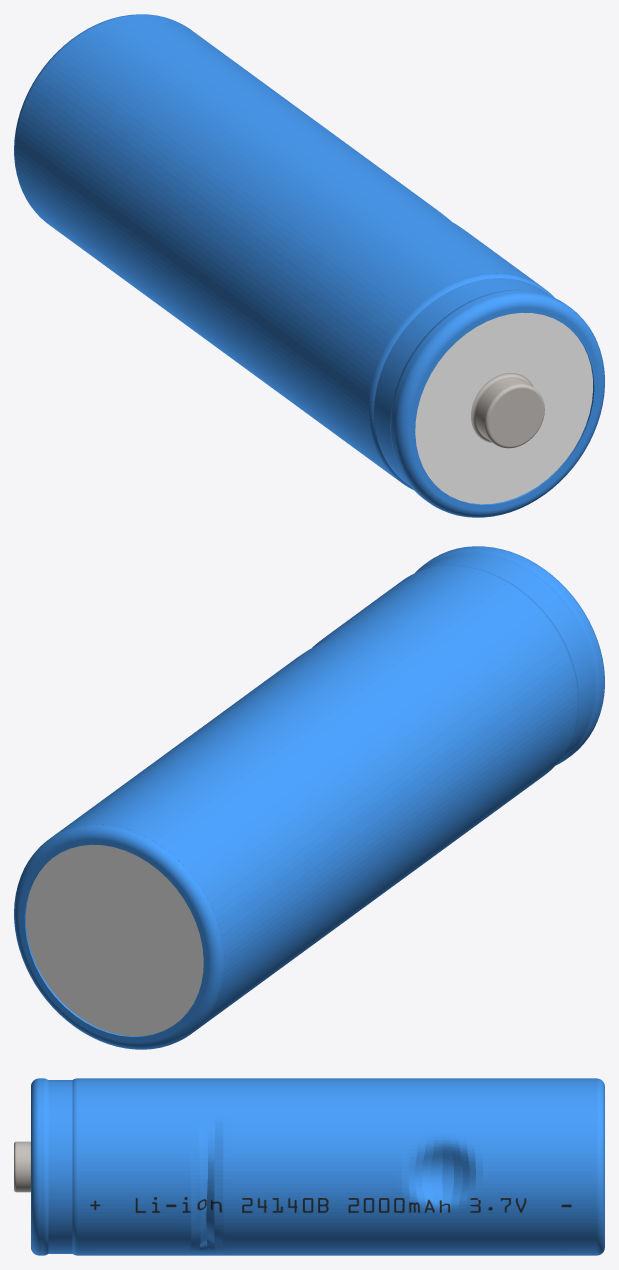
File: defect_8.glb
3 renders of one model, top to bottom at view 1: azimuth 30°, elevation 25°; view 2: azimuth 150°, elevation 25°; view 3: azimuth 270°, elevation 25°, orthographic. The views are drawn at different scales.
Parts seen in each view (by area): view 1: Cylinder, Cell_Top; view 2: Cylinder, Cell_bottom, Cell_Top; view 3: Cylinder, Cell_Top, Cell_bottom.
Part boxes in pixels (left/top/right/bottom): Cylinder: left=15, top=15, right=550, bottom=480; Cell_Top: left=368, top=273, right=604, bottom=517; Cylinder: left=41, top=566, right=577, bottom=1031; Cell_bottom: left=14, top=824, right=224, bottom=1049; Cell_Top: left=415, top=546, right=604, bottom=765; Cylinder: left=77, top=1078, right=596, bottom=1255; Cell_Top: left=14, top=1078, right=77, bottom=1255; Cell_bottom: left=596, top=1078, right=604, bottom=1255.
Bounding box in the file's own units: 0.021 × 0.021 × 0.07.
10 materials, 1 textured.
